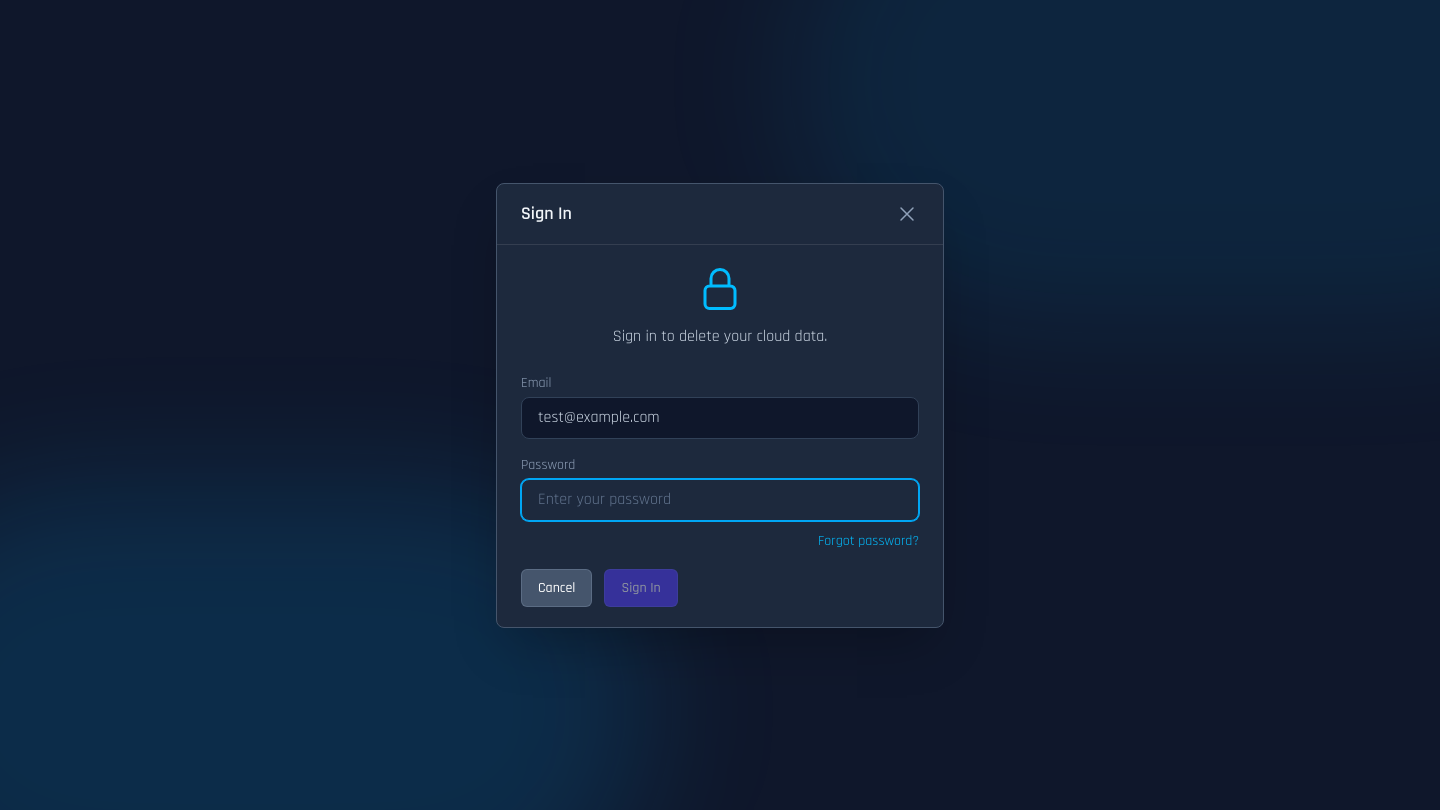
Test case: CloudAuthModal › auth step › should show loading state during sign in
Type "testpassword" into the password field with placeholder "Enter your password" at (720, 500), box top-left (521, 478), bottom-right (919, 520)
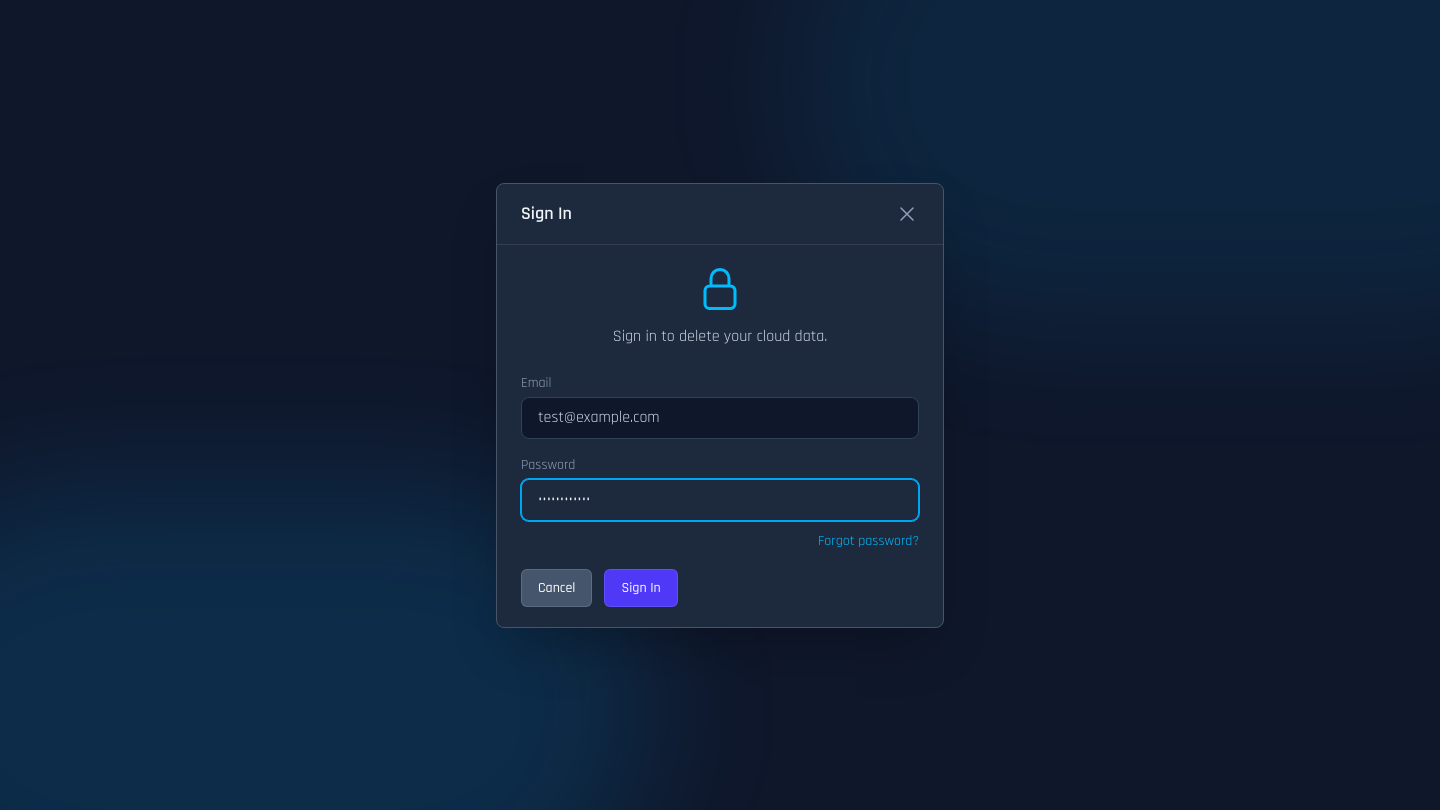
Click the button "Sign In" at (641, 588), box top-left (604, 568), bottom-right (678, 606)
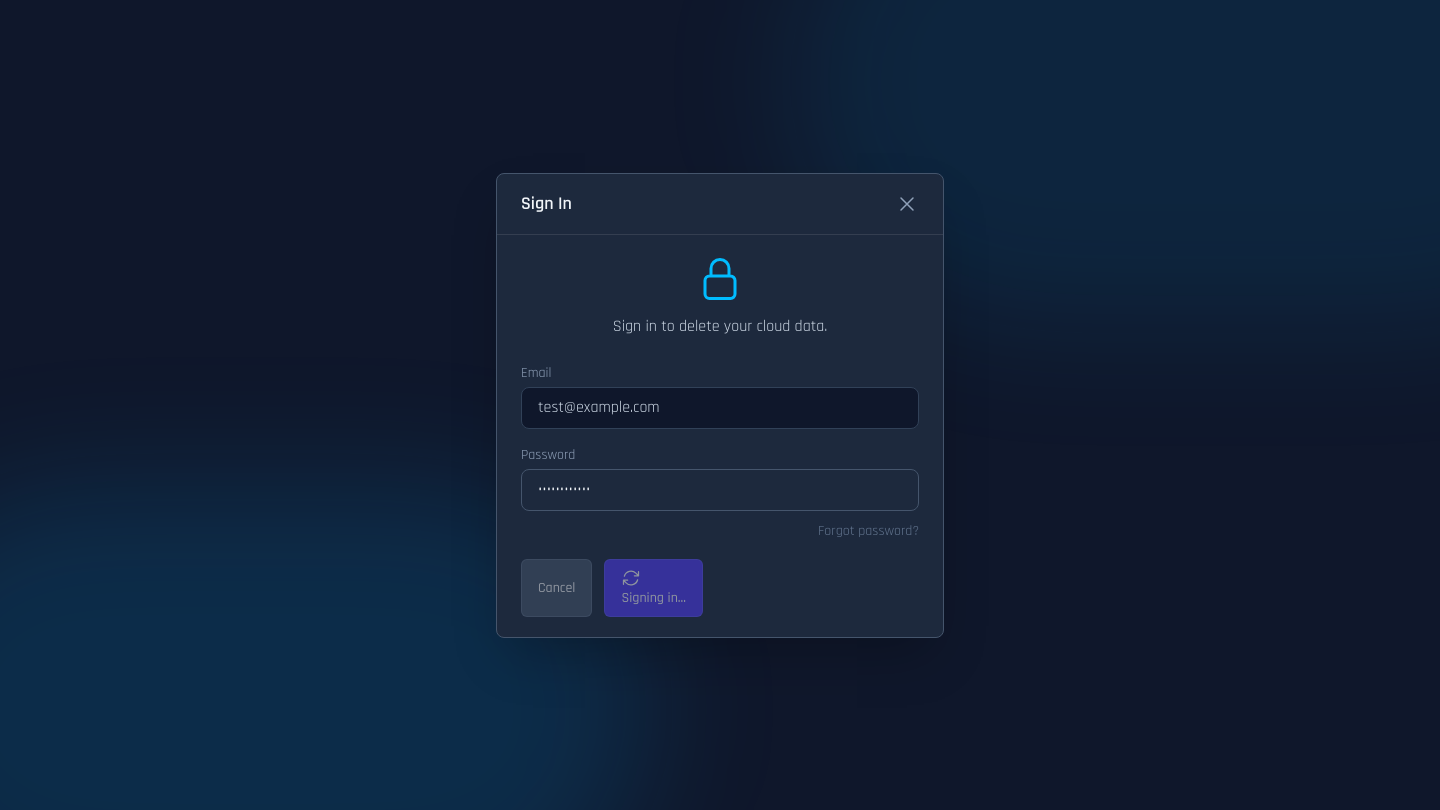
Check: the button "Signing in..." is shown, box top-left (604, 558), bottom-right (703, 616)
